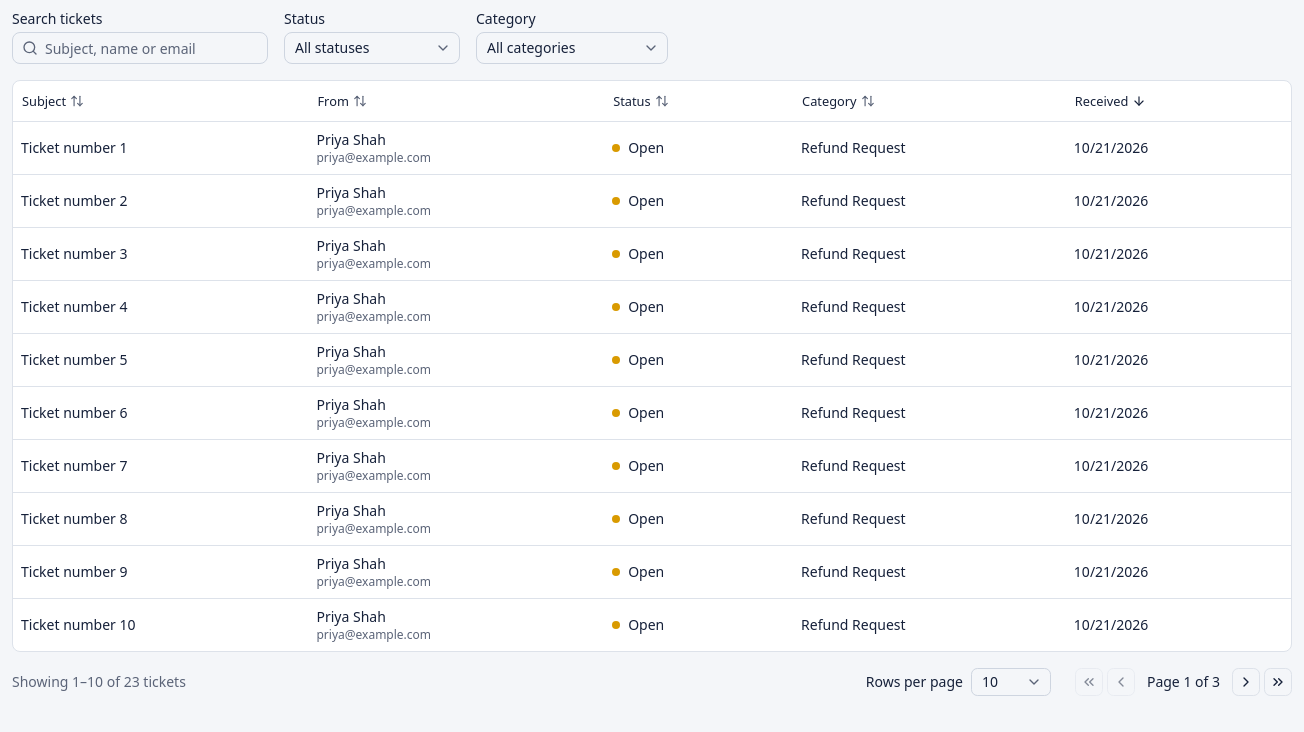
Test case: TicketsTable › pagination › requests the next page from the server and puts it in the URL
Expected: the link "Ticket number 1" is shown, [21,138,128,156]
Click the button named "Go to next page" at [1246, 682], box [1232,668,1260,696]
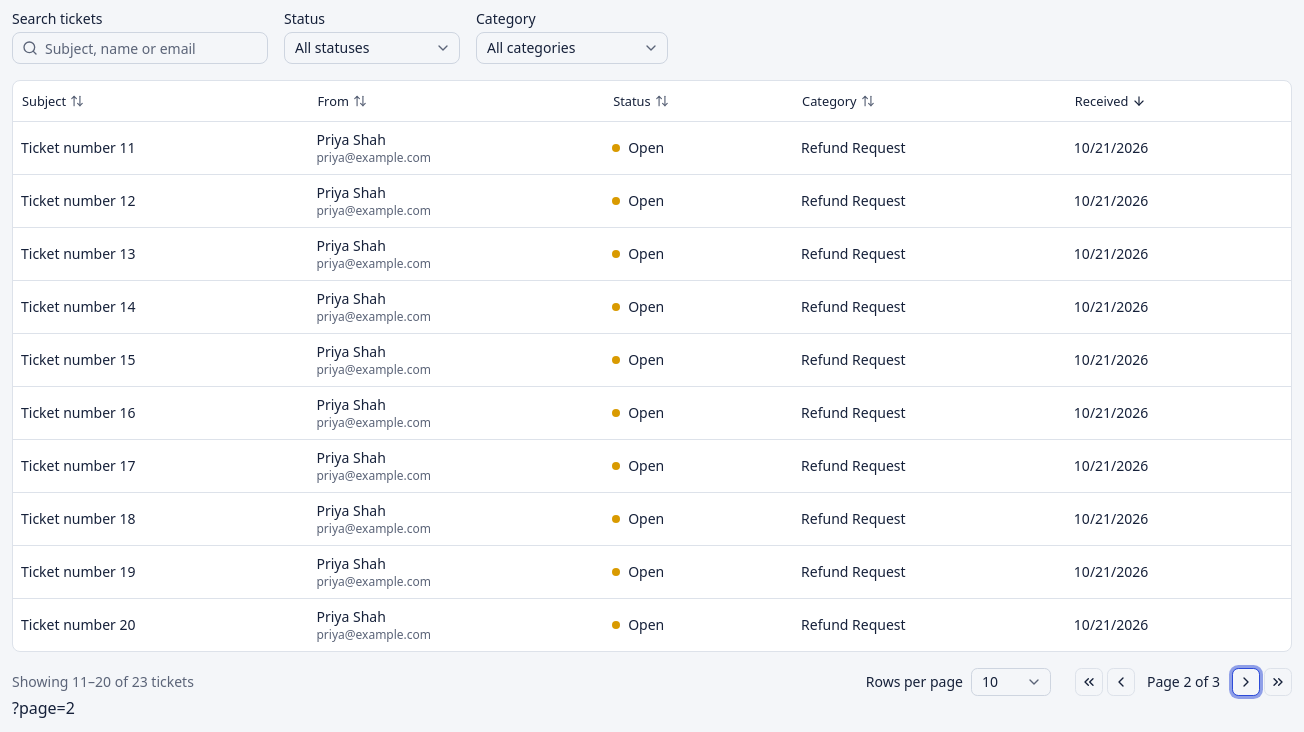
Expected: the link "Ticket number 11" is shown, [21,138,136,156]
Expected: the text with test id "location-search" reads "?page=2", [12,696,75,718]
Expected: the text "Showing 11–20 of 23 tickets" is shown, [12,672,194,692]
